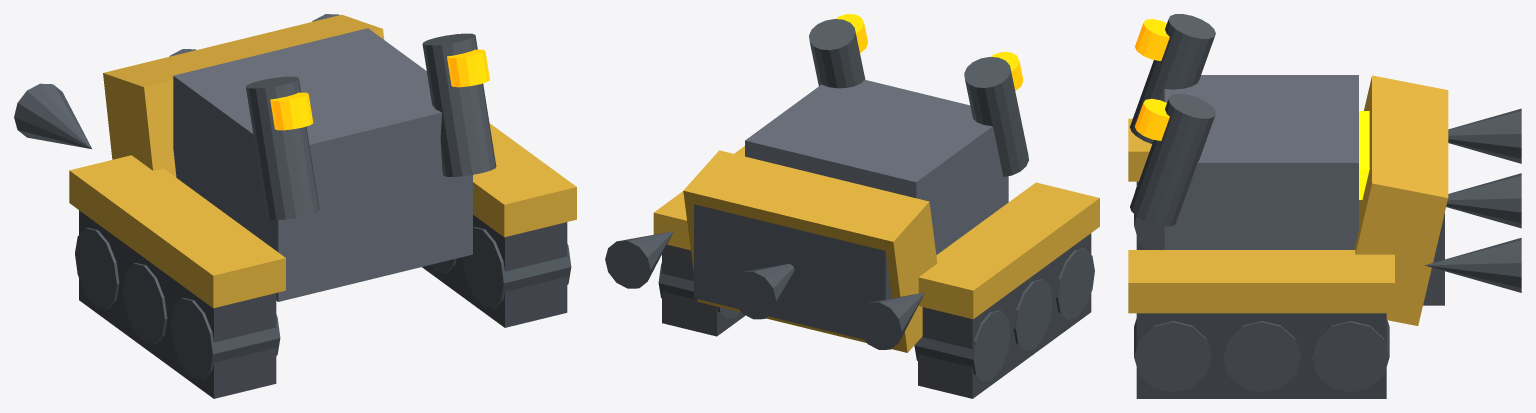
The model's file is enemy-crusher.glb.
The picture shows the model from 3 angles, left to right: view 1: azimuth 30°, elevation 25°; view 2: azimuth 150°, elevation 25°; view 3: azimuth 270°, elevation 25°; orthographic projection. The views are drawn at different scales.
Visible parts, largest first — view 1: Crusher_Hull, Crusher_Skirt_-0.56, Crusher_Ram, Crusher_Track_-0.56, Crusher_Skirt_0.56, Crusher_Pipe_-0.34, Crusher_Pipe_0.34, Crusher_Track_0.56, Crusher_Wheel_-0.56_-0.32, Crusher_Wheel_0.56_-0.32, Crusher_Spike_-0.55, Crusher_Wheel_-0.56_0.0 (+3 smaller); view 2: Crusher_Hull, Crusher_Ram, Crusher_RamPlate, Crusher_Skirt_-0.56, Crusher_Track_-0.56, Crusher_Pipe_-0.34, Crusher_Wheel_-0.56_0.32, Crusher_Pipe_0.34, Crusher_Track_0.56, Crusher_Spike_0.55, Crusher_Spike_-0.55, Crusher_Spike_0.0 (+6 smaller); view 3: Crusher_Hull, Crusher_Skirt_0.56, Crusher_Ram, Crusher_Track_0.56, Crusher_Pipe_0.34, Crusher_Wheel_0.56_0.32, Crusher_Wheel_0.56_-0.32, Crusher_Wheel_0.56_0.0, Crusher_Pipe_-0.34, Crusher_Spike_0.55, Crusher_Spike_0.0, Crusher_Spike_-0.55 (+6 smaller).
Part boxes in pixels (<box>): Crusher_Hull: <box>173,28,472,301</box>; Crusher_Skirt_-0.56: <box>69,155,285,308</box>; Crusher_Ram: <box>103,14,384,177</box>; Crusher_Track_-0.56: <box>79,210,276,398</box>; Crusher_Skirt_0.56: <box>473,123,576,237</box>; Crusher_Pipe_-0.34: <box>246,76,319,219</box>; Crusher_Pipe_0.34: <box>422,33,496,176</box>; Crusher_Track_0.56: <box>422,215,567,327</box>; Crusher_Wheel_-0.56_-0.32: <box>171,298,280,379</box>; Crusher_Wheel_0.56_-0.32: <box>462,227,571,308</box>; Crusher_Spike_-0.55: <box>14,83,91,148</box>; Crusher_Wheel_-0.56_0.0: <box>123,263,167,344</box>; Crusher_Hull: <box>745,79,1008,254</box>; Crusher_Ram: <box>683,150,937,352</box>; Crusher_RamPlate: <box>694,204,891,339</box>; Crusher_Skirt_-0.56: <box>918,182,1099,319</box>; Crusher_Track_-0.56: <box>918,233,1091,398</box>; Crusher_Pipe_-0.34: <box>964,57,1028,176</box>; Crusher_Wheel_-0.56_0.32: <box>914,310,1010,381</box>; Crusher_Pipe_0.34: <box>809,19,865,88</box>; Crusher_Track_0.56: <box>662,244,745,336</box>; Crusher_Spike_0.55: <box>605,231,673,288</box>; Crusher_Spike_-0.55: <box>856,292,924,349</box>; Crusher_Spike_0.0: <box>730,264,794,319</box>; Crusher_Hull: <box>1164,75,1358,249</box>; Crusher_Skirt_0.56: <box>1128,250,1394,313</box>; Crusher_Ram: <box>1354,75,1448,325</box>; Crusher_Track_0.56: <box>1136,313,1386,398</box>; Crusher_Pipe_0.34: <box>1130,94,1215,226</box>; Crusher_Wheel_0.56_0.32: <box>1311,320,1389,392</box>; Crusher_Wheel_0.56_-0.32: <box>1134,318,1211,392</box>; Crusher_Wheel_0.56_0.0: <box>1223,321,1300,392</box>; Crusher_Pipe_-0.34: <box>1130,14,1215,143</box>; Crusher_Spike_0.55: <box>1425,237,1521,292</box>; Crusher_Spike_0.0: <box>1446,173,1521,228</box>; Crusher_Spike_-0.55: <box>1448,108,1521,163</box>.
Bounding box in the file's own units: 1.4 × 1.03 × 1.41.
